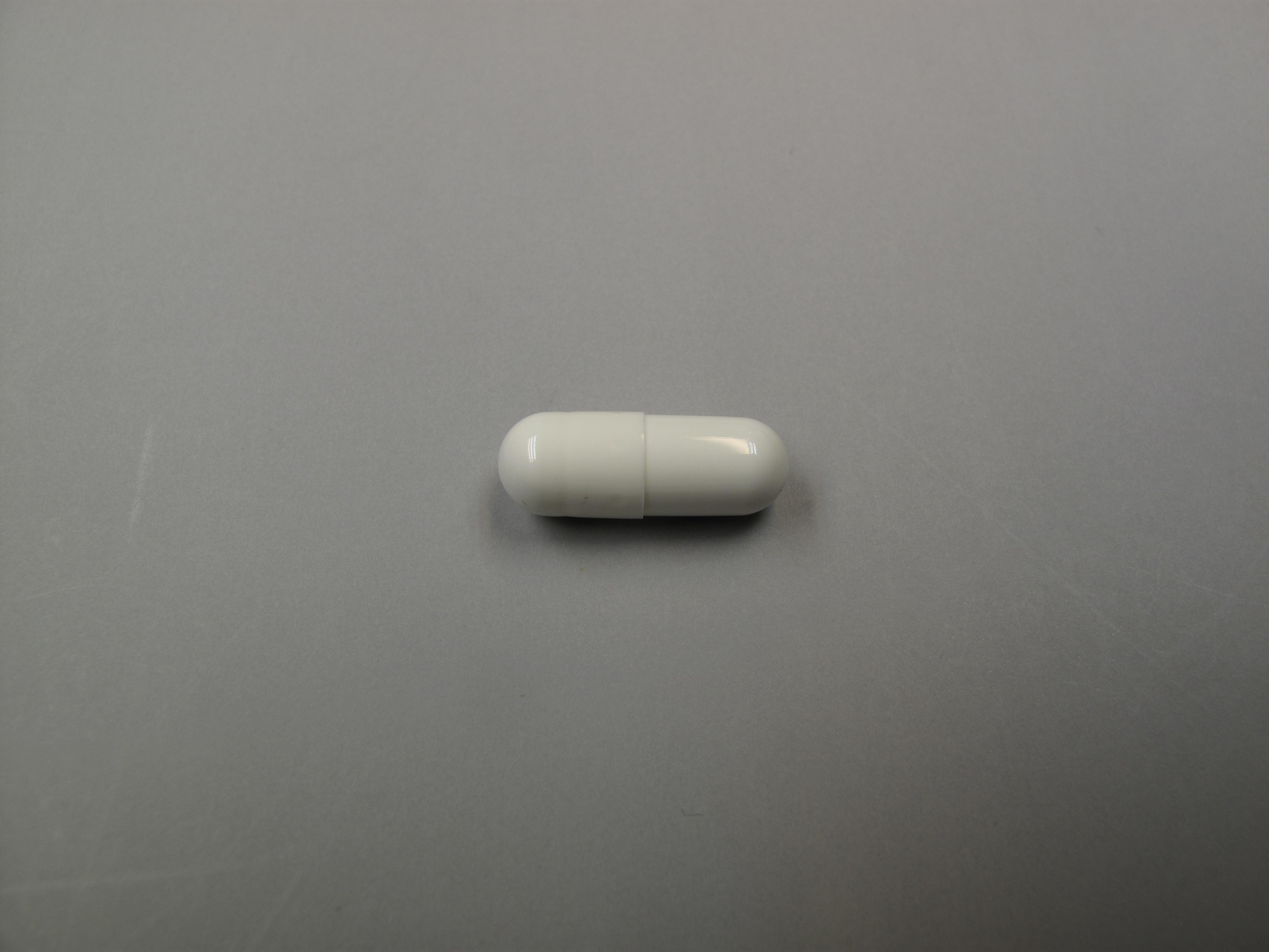Pill: (493, 402, 795, 529)
